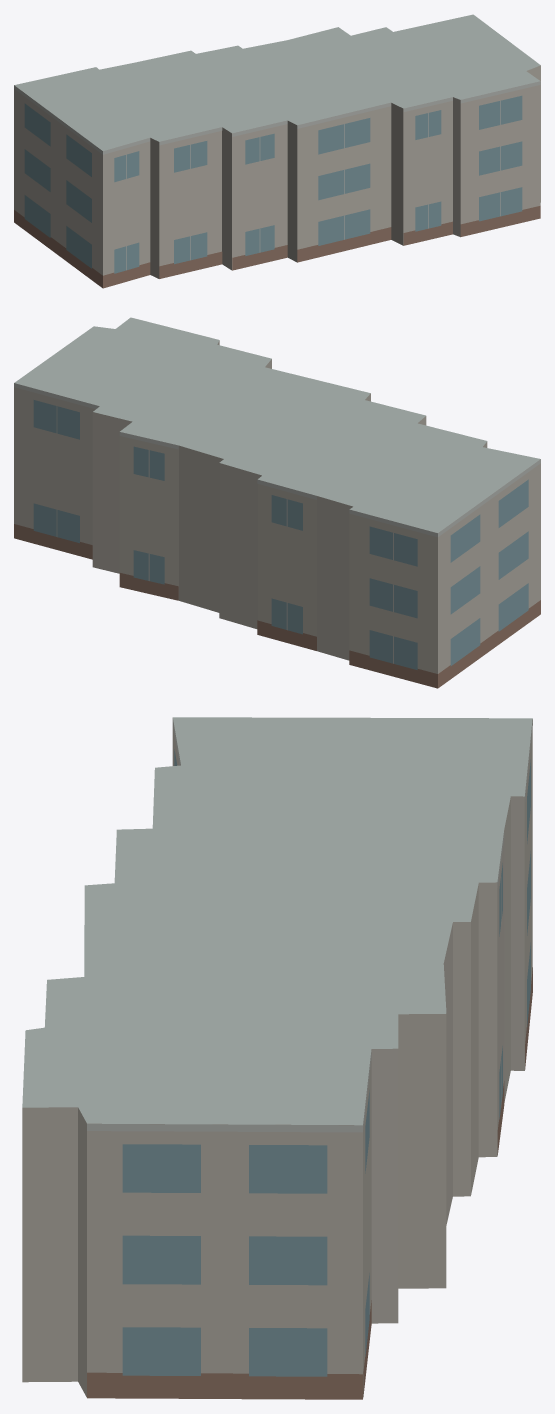
File: survey-upis-32676077.glb
3 views of the same model, one above another, from view 1: azimuth 30°, elevation 25°; view 2: azimuth 150°, elevation 25°; view 3: azimuth 270°, elevation 25° (orthographic). The views are drawn at different scales.
Visible parts, largest first — view 1: survey-upis-32676077.tmp; view 2: survey-upis-32676077.tmp; view 3: survey-upis-32676077.tmp.
Part boxes in pixels (x1,y1,x2,y2): survey-upis-32676077.tmp: [14, 14, 540, 288]; survey-upis-32676077.tmp: [14, 317, 540, 688]; survey-upis-32676077.tmp: [22, 717, 532, 1399].
Size of the model in its own units: 29.17 by 9.15 by 15.43.
